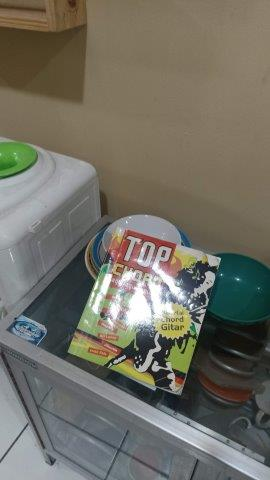kertas: (67, 224, 221, 399)
